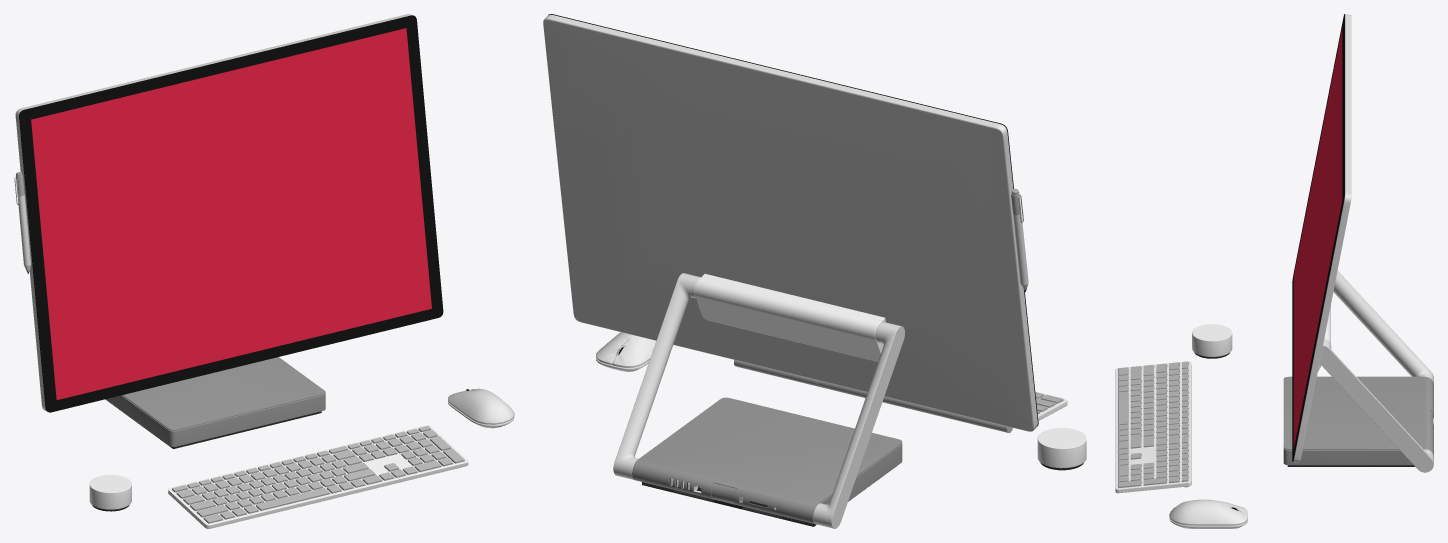
File: SurfaceStudio2-transformed.glb
3 renders of one model, left to right at view 1: azimuth 30°, elevation 25°; view 2: azimuth 150°, elevation 25°; view 3: azimuth 270°, elevation 25°, orthographic. The views are drawn at different scales.
Parts seen in each view (by area): view 1: ScreenZone, Glass, Base, Buttons, Keyboard, Monitor, Mouse, Dial, Pen; view 2: Monitor, Base, Monitor_base, Legs, Dial, Battery, Mouse, Glass, Pen, Radiator; view 3: Base, ScreenZone, Buttons, Legs, Keyboard, Monitor, Glass, Mouse, Dial.
Boxes of the visible parts, bbox=[...] form: ScreenZone: bbox=[31, 28, 431, 399]; Glass: bbox=[19, 15, 443, 412]; Base: bbox=[106, 357, 325, 446]; Buttons: bbox=[172, 425, 464, 523]; Keyboard: bbox=[168, 425, 468, 528]; Monitor: bbox=[15, 14, 411, 411]; Mouse: bbox=[448, 388, 514, 424]; Dial: bbox=[89, 475, 131, 511]; Pen: bbox=[16, 175, 30, 273]; Monitor: bbox=[543, 14, 1037, 431]; Base: bbox=[632, 397, 902, 524]; Monitor_base: bbox=[695, 274, 885, 361]; Legs: bbox=[613, 273, 904, 528]; Dial: bbox=[1037, 428, 1086, 470]; Battery: bbox=[734, 360, 1012, 432]; Mouse: bbox=[596, 332, 656, 367]; Glass: bbox=[548, 14, 1038, 426]; Pen: bbox=[1011, 192, 1028, 291]; Radiator: bbox=[642, 466, 896, 526]; Base: bbox=[1283, 376, 1433, 465]; ScreenZone: bbox=[1293, 28, 1342, 448]; Buttons: bbox=[1118, 361, 1188, 488]; Legs: bbox=[1319, 271, 1433, 472]; Keyboard: bbox=[1115, 361, 1191, 493]; Monitor: bbox=[1293, 14, 1351, 462]; Glass: bbox=[1292, 14, 1344, 461]; Mouse: bbox=[1169, 499, 1247, 525]; Dial: bbox=[1192, 324, 1232, 358].
Bounding box in the file's own units: 0.6721 × 0.5305 × 0.4665.
